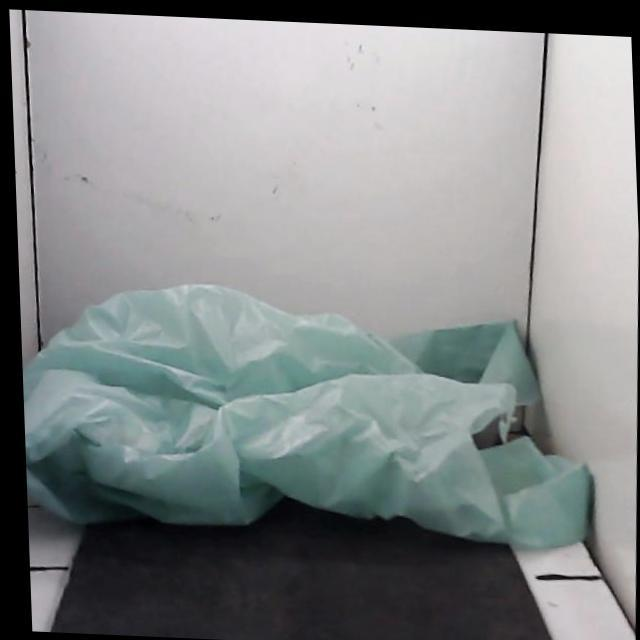plastico: (23, 285, 591, 547)
